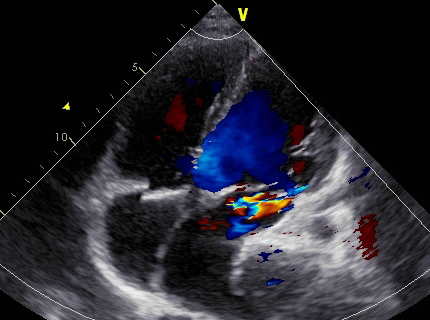MR: (217, 168, 310, 196)
